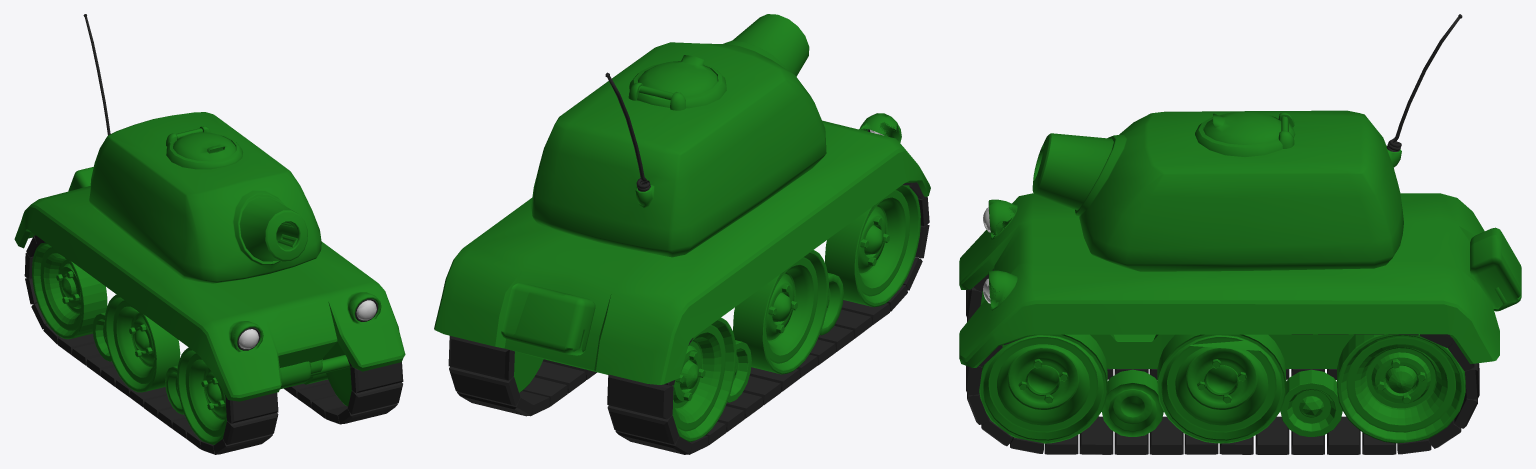
File: Light Tank renew.FBX
The picture shows the model from 3 angles, left to right: view 1: azimuth 30°, elevation 25°; view 2: azimuth 150°, elevation 25°; view 3: azimuth 270°, elevation 25°; orthographic projection. The views are drawn at different scales.
Visible parts, largest first — view 1: TankChassis, TankTurret; view 2: TankChassis, TankTurret; view 3: TankChassis, TankTurret.
Part boxes in pixels (<box>): TankChassis: <box>14,167,405,454</box>; TankTurret: <box>83,14,321,283</box>; TankChassis: <box>434,113,930,454</box>; TankTurret: <box>531,14,826,257</box>; TankChassis: <box>959,193,1521,454</box>; TankTurret: <box>1032,14,1462,271</box>.
Bounding box in the file's own units: 40.67 × 61.59 × 84.7.
